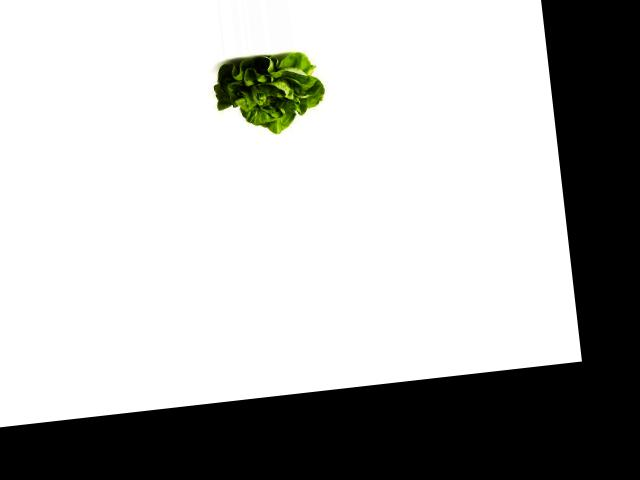lettuce: (209, 48, 332, 139)
